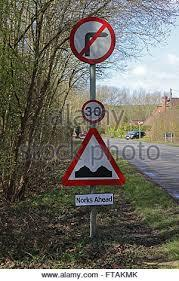no_right_turn: (66, 16, 115, 62)
